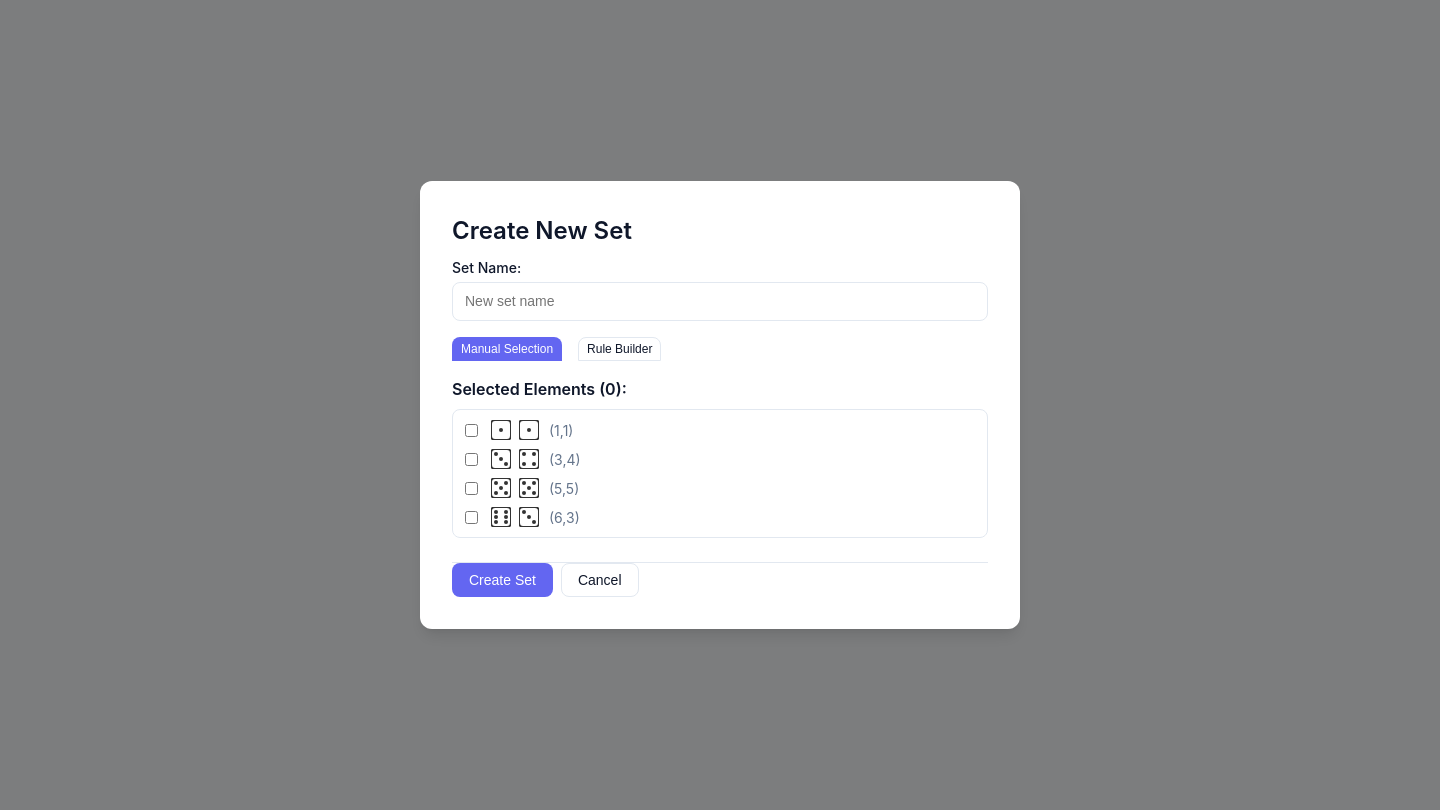
Test case: SetEditModal Smart Sets › switches to rule mode
This screenshot has width=1440, height=810.
Click the button "Rule Builder". click: {"x": 620, "y": 349}
box: [578, 337, 662, 361]
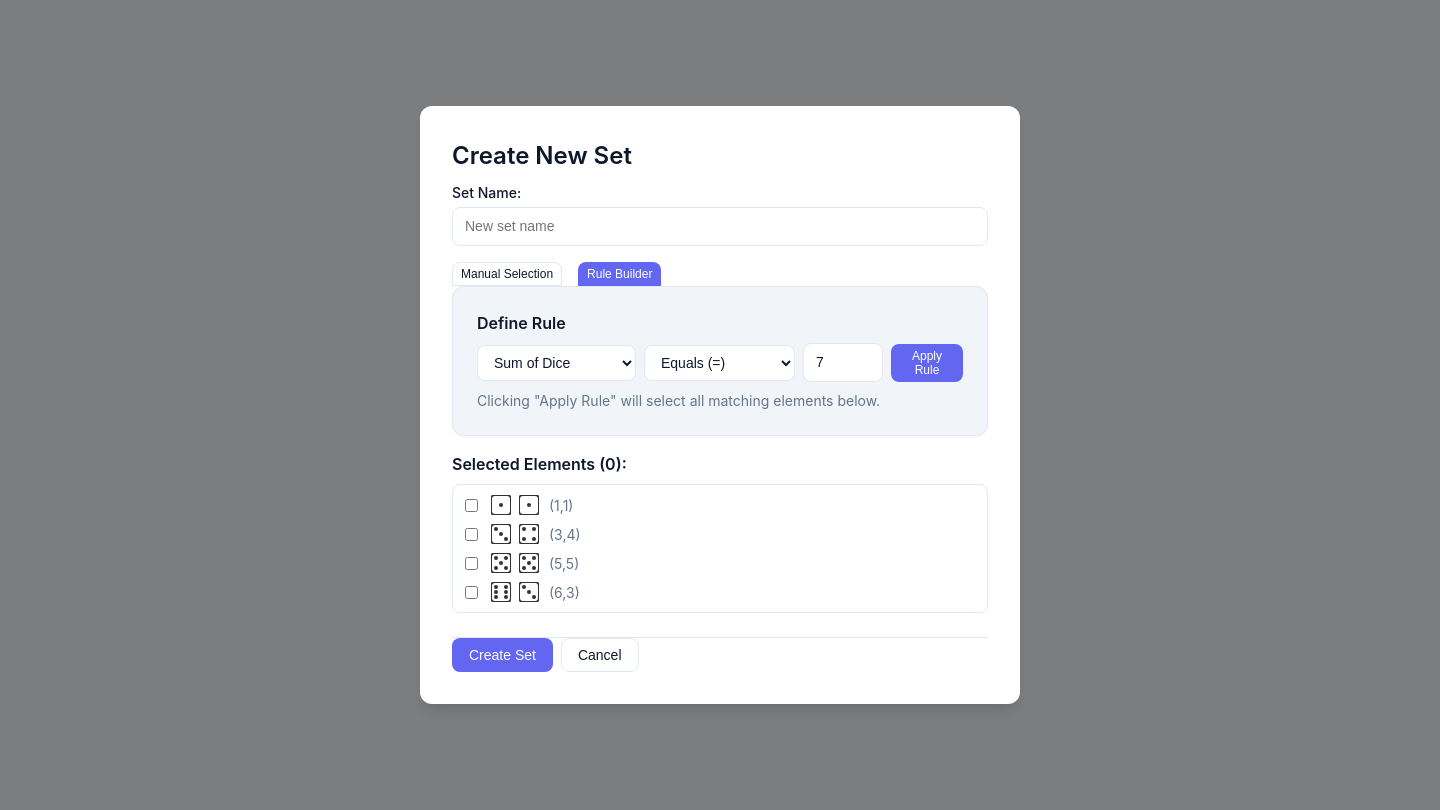
Check: the heading "Define Rule" is shown, box [477, 313, 566, 333]
